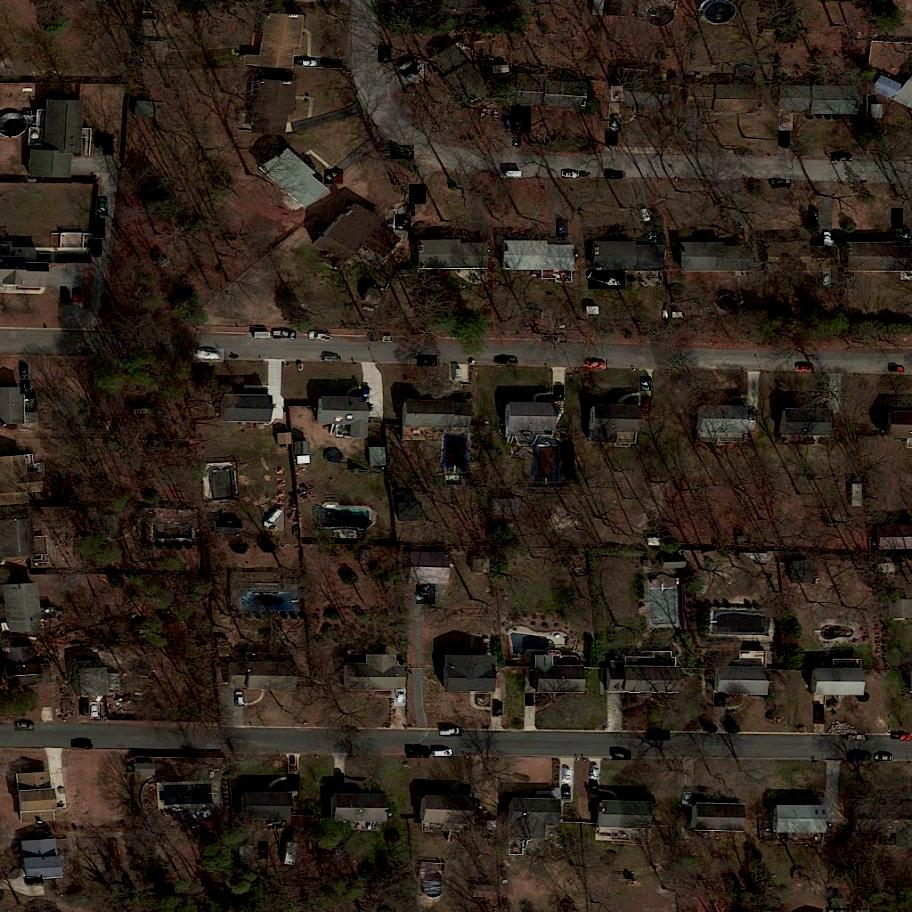large-vehicle: (265, 508, 286, 532), (416, 585, 436, 604), (814, 704, 823, 723)
ship: (588, 271, 626, 291), (511, 106, 532, 133), (194, 349, 225, 362), (390, 145, 414, 160), (505, 111, 513, 131)
small-vehicle: (406, 65, 426, 84), (407, 184, 426, 204), (309, 329, 333, 344), (400, 57, 419, 75), (325, 168, 343, 185), (395, 213, 411, 232), (778, 113, 794, 132), (846, 751, 871, 763), (607, 112, 621, 132), (406, 748, 430, 759), (647, 731, 671, 742), (386, 208, 398, 230), (360, 383, 373, 403), (93, 219, 106, 239), (892, 209, 905, 229), (417, 356, 438, 368), (378, 46, 392, 64), (72, 739, 92, 751), (395, 688, 407, 708), (557, 220, 570, 238), (681, 792, 694, 810), (584, 359, 607, 369), (641, 208, 654, 225), (440, 727, 462, 737), (612, 750, 632, 761), (287, 775, 299, 793), (61, 287, 73, 305), (90, 702, 102, 720), (104, 134, 114, 155), (98, 197, 109, 216), (606, 130, 619, 146), (589, 780, 601, 797), (715, 691, 727, 708), (90, 239, 102, 256), (562, 767, 574, 784), (611, 86, 623, 103), (15, 721, 35, 731), (79, 698, 90, 716), (554, 385, 566, 401), (779, 132, 791, 148), (604, 170, 623, 180), (496, 357, 517, 366), (589, 764, 600, 781), (94, 130, 104, 148), (641, 396, 652, 412), (890, 734, 912, 742), (874, 754, 893, 763), (494, 702, 504, 719), (525, 693, 537, 707), (831, 154, 852, 162), (640, 376, 651, 391), (20, 380, 31, 394), (334, 773, 344, 788), (431, 750, 452, 757), (259, 842, 268, 858), (324, 60, 342, 68), (26, 877, 43, 885), (235, 691, 244, 706), (563, 170, 578, 179), (274, 331, 296, 337), (561, 786, 571, 799), (73, 289, 82, 303), (902, 229, 911, 243), (824, 268, 831, 285), (772, 180, 791, 186), (321, 355, 339, 361), (825, 232, 832, 246), (408, 203, 415, 216), (748, 409, 756, 420), (21, 365, 28, 377), (513, 132, 519, 146), (797, 366, 813, 371), (303, 60, 316, 66), (648, 231, 654, 244), (812, 210, 818, 221), (291, 757, 296, 770), (890, 368, 903, 372)
